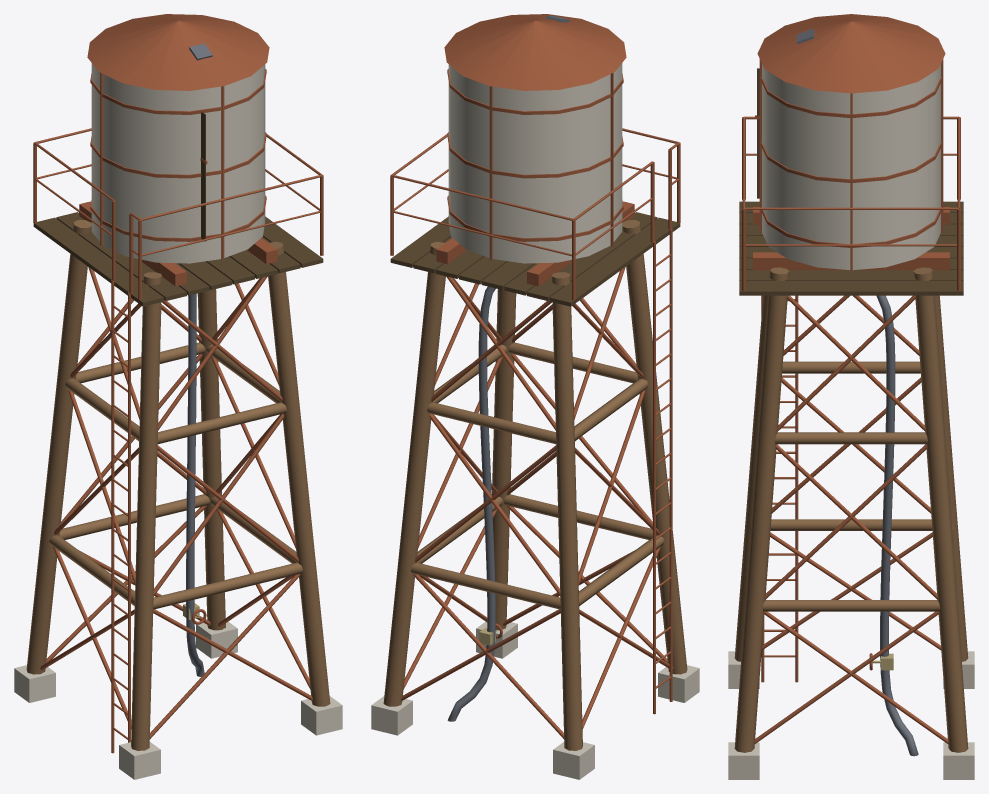
Rendered from elevated-water-tower-about.glb.
3 views of the same model, side by side, from view 1: azimuth 30°, elevation 25°; view 2: azimuth 150°, elevation 25°; view 3: azimuth 270°, elevation 25° (orthographic). The views are drawn at different scales.
Visible parts, largest first — view 1: Mesh_TankBody, Mesh_TankCap, Mesh_Leg_0, Mesh_Leg_1, Mesh_Leg_2, Mesh_Leg_3, Mesh_DownPipe, Mesh_Plank_7, Mesh_Horiz_F_2, Mesh_LadderLeftRail, Mesh_Horiz_F_4, Mesh_Horiz_B_2 (+36 smaller); view 2: Mesh_TankBody, Mesh_TankCap, Mesh_Leg_2, Mesh_Leg_3, Mesh_Leg_0, Mesh_Leg_1, Mesh_DownPipe, Mesh_Plank_7, Mesh_Horiz_B_2, Mesh_LadderRightRail, Mesh_Horiz_B_4, Mesh_Horiz_F_2 (+35 smaller); view 3: Mesh_TankBody, Mesh_TankCap, Mesh_Leg_1, Mesh_Leg_3, Mesh_DownPipe, Mesh_Plank0, Mesh_Leg_0, Mesh_Leg_2, Mesh_Horiz_L_2, Mesh_Plank_1, Mesh_Horiz_L_4, Mesh_SupportBeam1 (+25 smaller).
Part boxes in pixels (x1,y1,x2,y2): Mesh_TankBody: (91, 63, 265, 263); Mesh_TankCap: (87, 14, 269, 90); Mesh_Leg_0: (131, 272, 161, 750); Mesh_Leg_1: (268, 241, 330, 706); Mesh_Leg_2: (26, 220, 91, 674); Mesh_Leg_3: (197, 289, 225, 630); Mesh_DownPipe: (186, 293, 204, 676); Mesh_Plank_7: (33, 217, 164, 306); Mesh_Horiz_F_2: (153, 562, 302, 609); Mesh_LadderLeftRail: (111, 280, 114, 753); Mesh_Horiz_F_4: (157, 402, 286, 444); Mesh_Horiz_B_2: (59, 494, 210, 539); Mesh_TankBody: (448, 63, 622, 263); Mesh_TankCap: (444, 14, 626, 90); Mesh_Leg_2: (552, 272, 582, 750); Mesh_Leg_3: (383, 241, 445, 706); Mesh_Leg_0: (622, 220, 687, 674); Mesh_Leg_1: (492, 289, 516, 630); Mesh_DownPipe: (447, 286, 495, 721); Mesh_Plank_7: (549, 217, 680, 306); Mesh_Horiz_B_2: (411, 562, 560, 609); Mesh_LadderRightRail: (669, 229, 672, 701); Mesh_Horiz_B_4: (427, 402, 556, 444); Mesh_Horiz_F_2: (503, 494, 652, 539); Mesh_TankBody: (762, 64, 940, 270); Mesh_TankCap: (757, 14, 945, 93); Mesh_Leg_1: (734, 267, 789, 752); Mesh_Leg_3: (913, 267, 968, 752); Mesh_DownPipe: (876, 295, 918, 756); Mesh_Plank0: (739, 281, 963, 295); Mesh_Leg_0: (734, 295, 767, 661); Mesh_Leg_2: (935, 295, 968, 661); Mesh_Horiz_L_2: (762, 600, 940, 611); Mesh_Plank_1: (739, 269, 963, 280); Mesh_Horiz_L_4: (775, 432, 927, 444); Mesh_SupportBeam1: (753, 252, 949, 270).
Size of the model in its own units: 2.75 by 8.7 by 2.75.
1 material, 1 textured.
